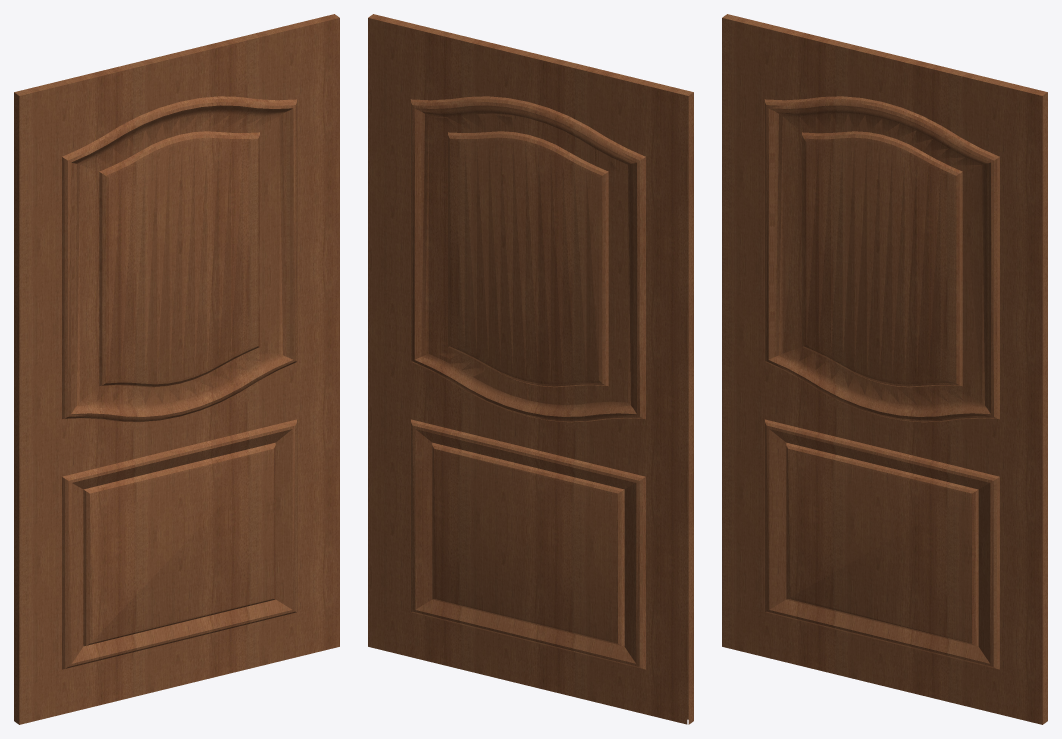
Rendered from Biblioteca_Folha_Porta_GameJamFBX.fbx.
3 views of the same model, side by side, from view 1: azimuth 30°, elevation 25°; view 2: azimuth 150°, elevation 25°; view 3: azimuth 330°, elevation 25° (orthographic).
Parts seen in each view (by area): view 1: Group1, Model; view 2: Group1, Model; view 3: Group1, Model.
Part boxes in pixels (box(x1,y1,x2,y2)): Group1: box(14, 18, 339, 724); Model: box(14, 14, 339, 95); Group1: box(368, 18, 693, 724); Model: box(368, 14, 693, 714); Group1: box(722, 18, 1047, 724); Model: box(722, 14, 1047, 95).
Bounding box in the file's own units: 1410 × 2643 × 80.09.
